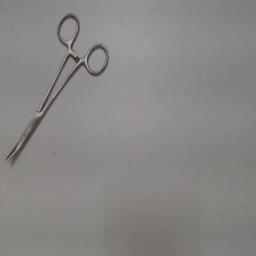Crile Artery Forceps: (2, 9, 112, 169)
